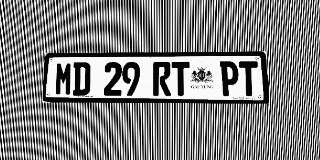2: (104, 62, 122, 96)
9: (122, 62, 140, 96)
D: (72, 62, 91, 96)
M: (55, 62, 73, 96)
P: (220, 61, 239, 96)
R: (153, 62, 171, 96)
T: (239, 61, 259, 96), (172, 62, 190, 96)
